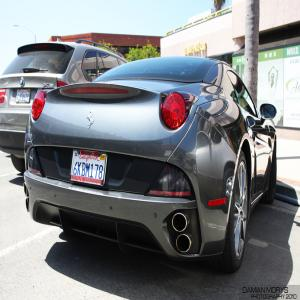Vehicle-registration-plate: (72, 154, 106, 189), (17, 88, 32, 103)
